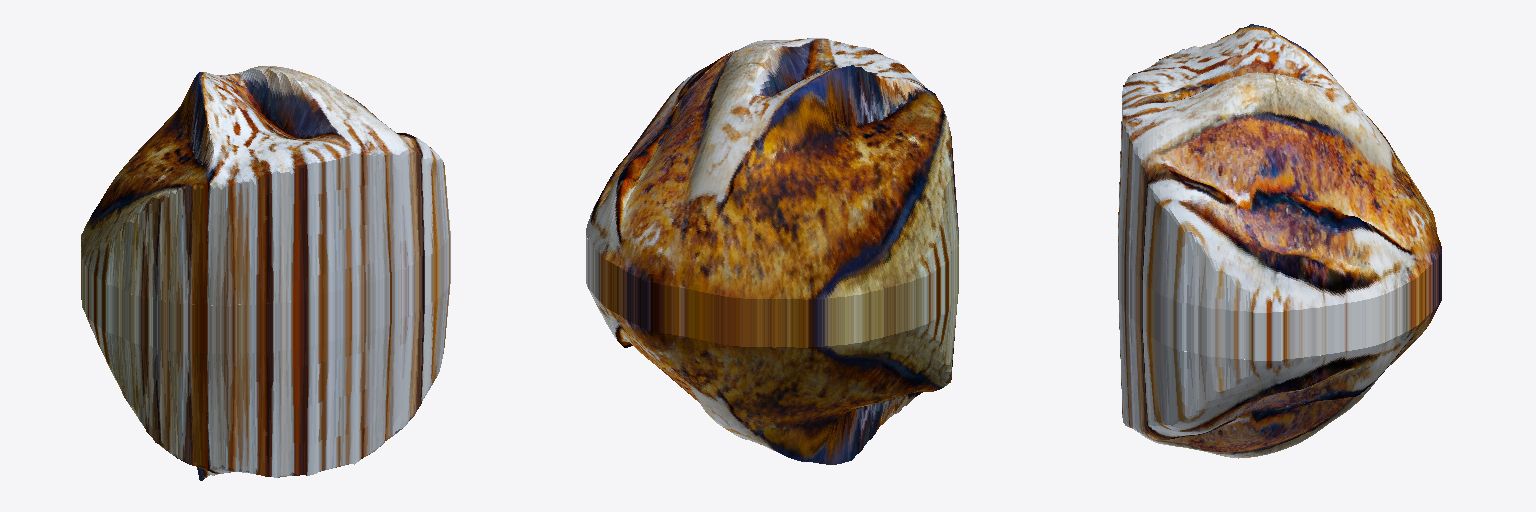
The picture shows the model from 3 angles: view 1: azimuth 30°, elevation 25°; view 2: azimuth 150°, elevation 25°; view 3: azimuth 270°, elevation 25°; orthographic projection.
Visible parts, largest first — view 1: Grid; view 2: Grid; view 3: Grid.
Boxes of the visible parts, <box> form: Grid: <box>81,66,450,480</box>; Grid: <box>586,38,958,464</box>; Grid: <box>1118,24,1441,458</box>.
Bounding box in the file's own units: 1.74 × 1.98 × 1.47.
1 materials, 1 textured.